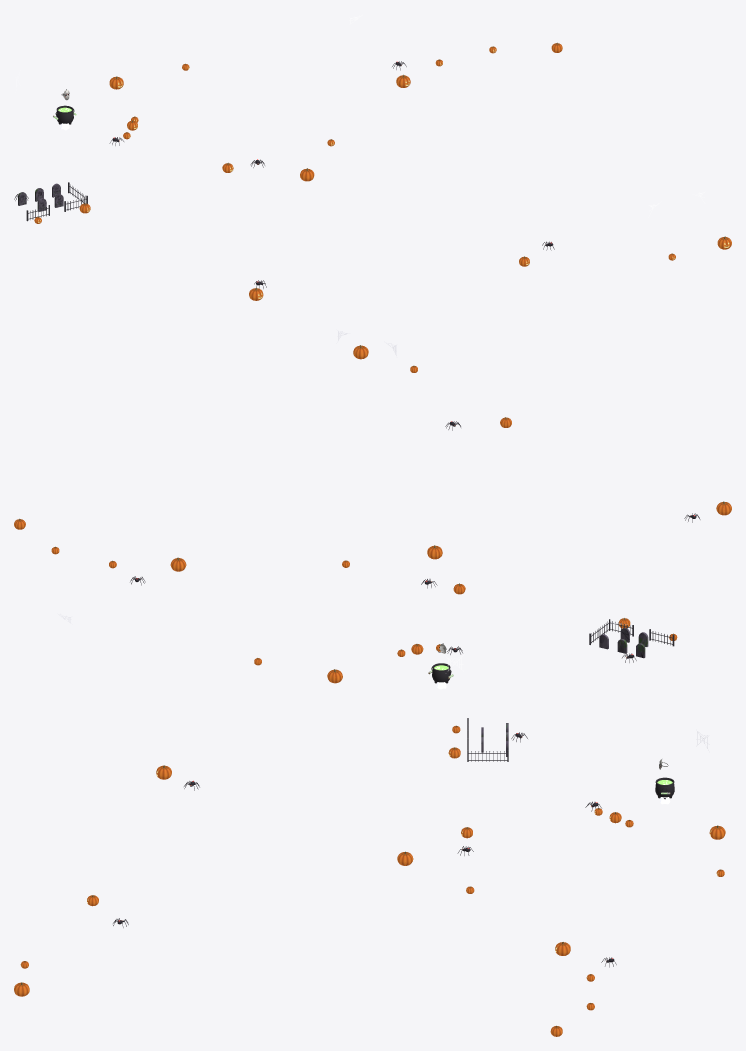
Rendered from halloween.glb.
3 views of the same model, one above another, from view 1: azimuth 30°, elevation 25°; view 2: azimuth 150°, elevation 25°; view 3: azimuth 270°, elevation 25° (orthographic). The views are drawn at different scales.
Size of the model in its own units: 47.29 by 3.89 by 46.44.
28 materials, 6 textured.
